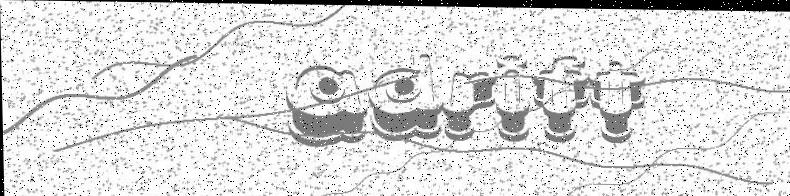a: (283, 63, 367, 147)
d: (366, 51, 441, 143)
f: (531, 53, 591, 142)
i: (491, 53, 530, 141)
r: (441, 69, 496, 140)
t: (590, 59, 648, 143)
